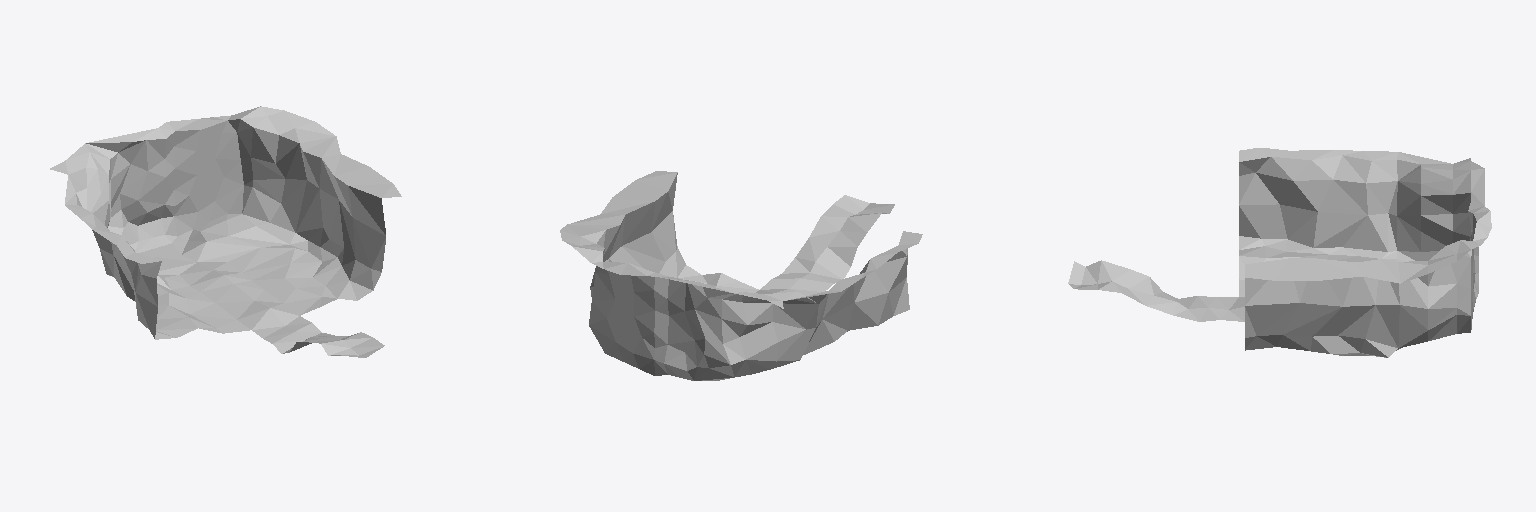
Rendered from polyland.obj.
The picture shows the model from 3 angles: view 1: azimuth 30°, elevation 25°; view 2: azimuth 150°, elevation 25°; view 3: azimuth 270°, elevation 25°; orthographic projection.
Parts seen in each view (by area): view 1: Cube; view 2: Cube; view 3: Cube.
Part boxes in pixels (x1,y1,x2,y2): Cube: (50, 106, 401, 357); Cube: (560, 171, 922, 380); Cube: (1068, 148, 1491, 357).
Bounding box in the file's own units: 21.16 × 7.91 × 27.53.